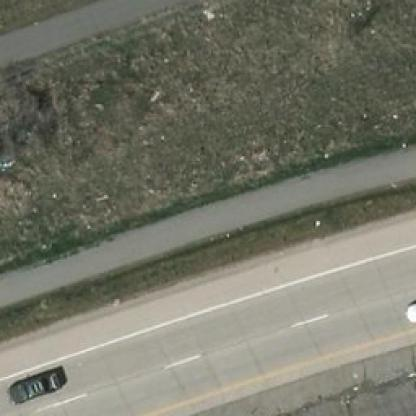car: (6, 364, 64, 410)
